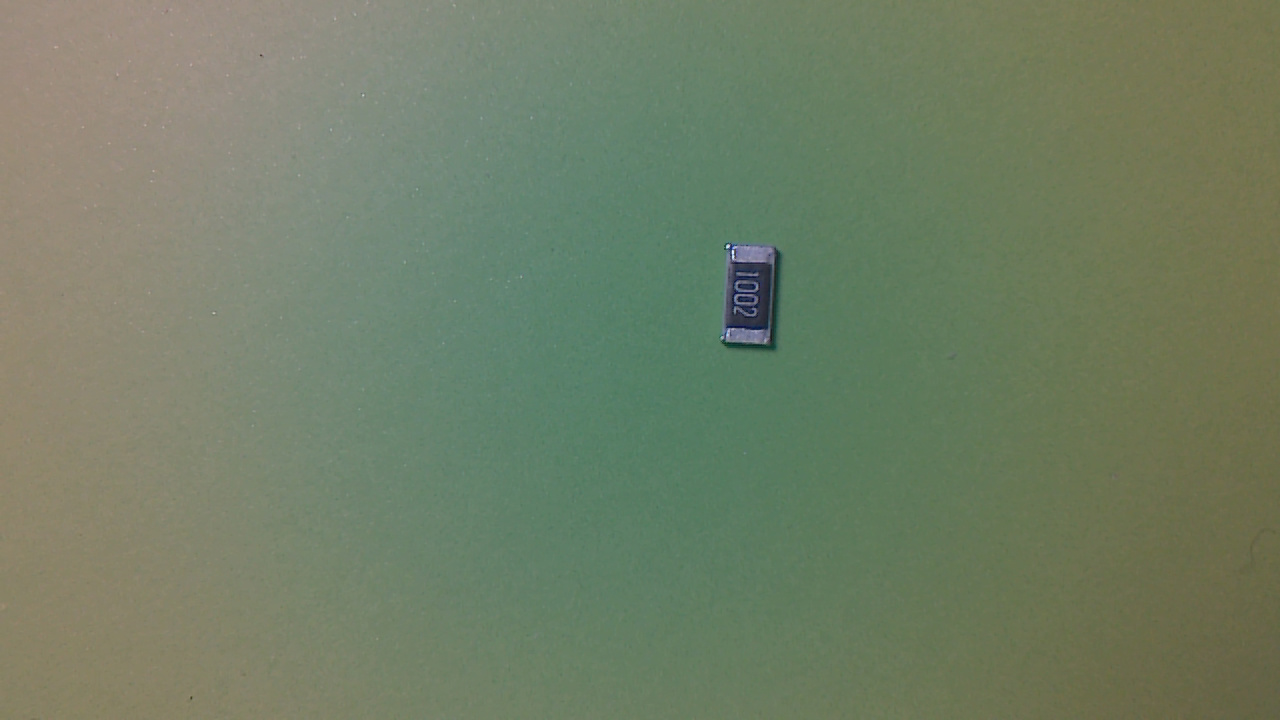Resistor: (723, 244, 789, 362)
